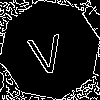V: (25, 25, 67, 77)
